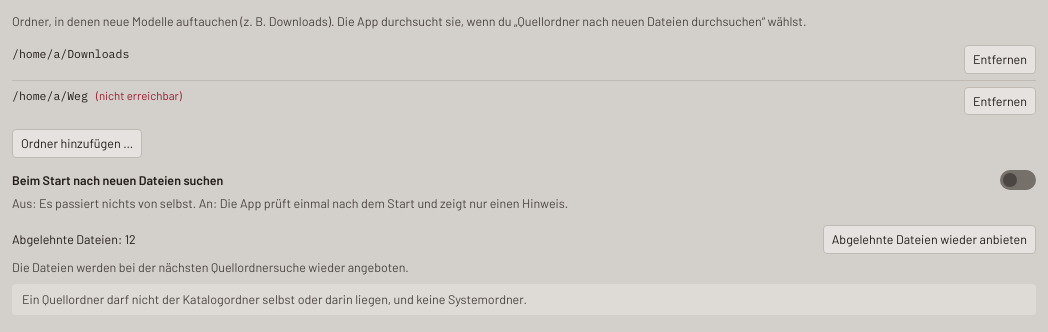
Test: keeps the full declined-file action operable in de
Click the button "Abgelehnte Dateien wieder anbieten" at (929, 239), box [823,225,1036,254]
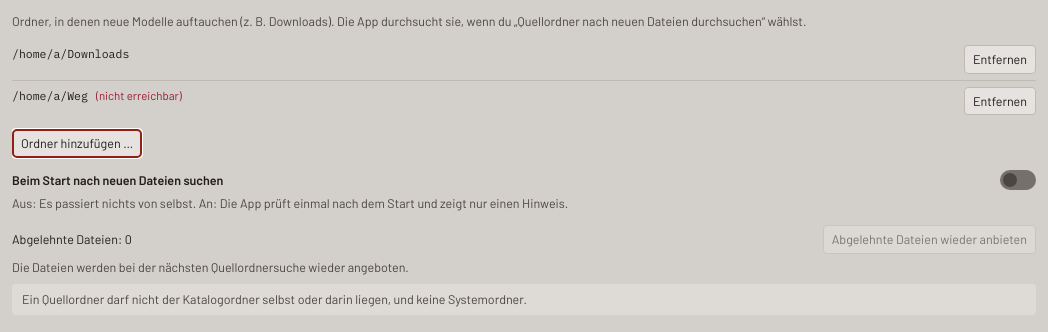
Check: the button "Abgelehnte Dateien wieder anbieten" is disabled, box [823,225,1036,254]
Check: the text with id "source-rejected-count" reads "Abgelehnte Dateien: 0", box [12,231,132,247]
